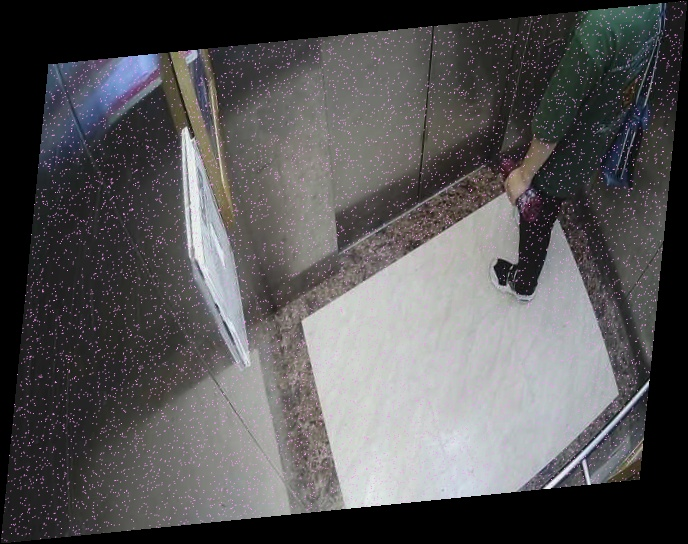person: (491, 1, 673, 312)
